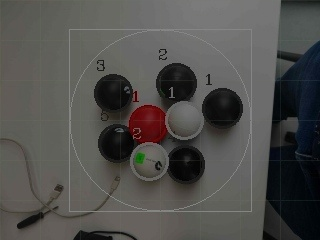Pelota blanca: (0, 137, 35, 214), (129, 141, 169, 183), (165, 101, 205, 141), (79, 229, 139, 240)
Pelota negra: (269, 39, 320, 240), (201, 87, 245, 130), (155, 63, 199, 102), (167, 143, 206, 184), (93, 73, 134, 112), (97, 123, 134, 162)
Pelota roja: (127, 103, 166, 144)
